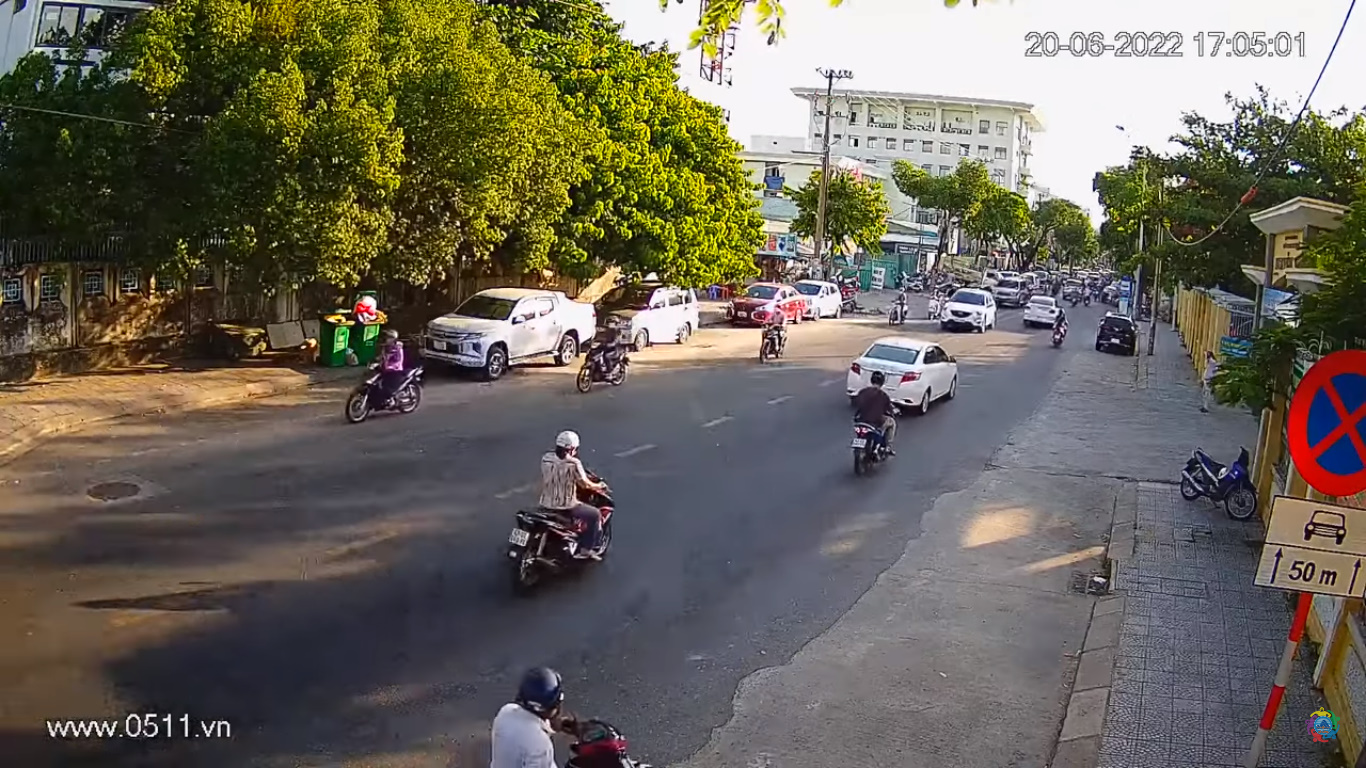car: (840, 340, 964, 425)
